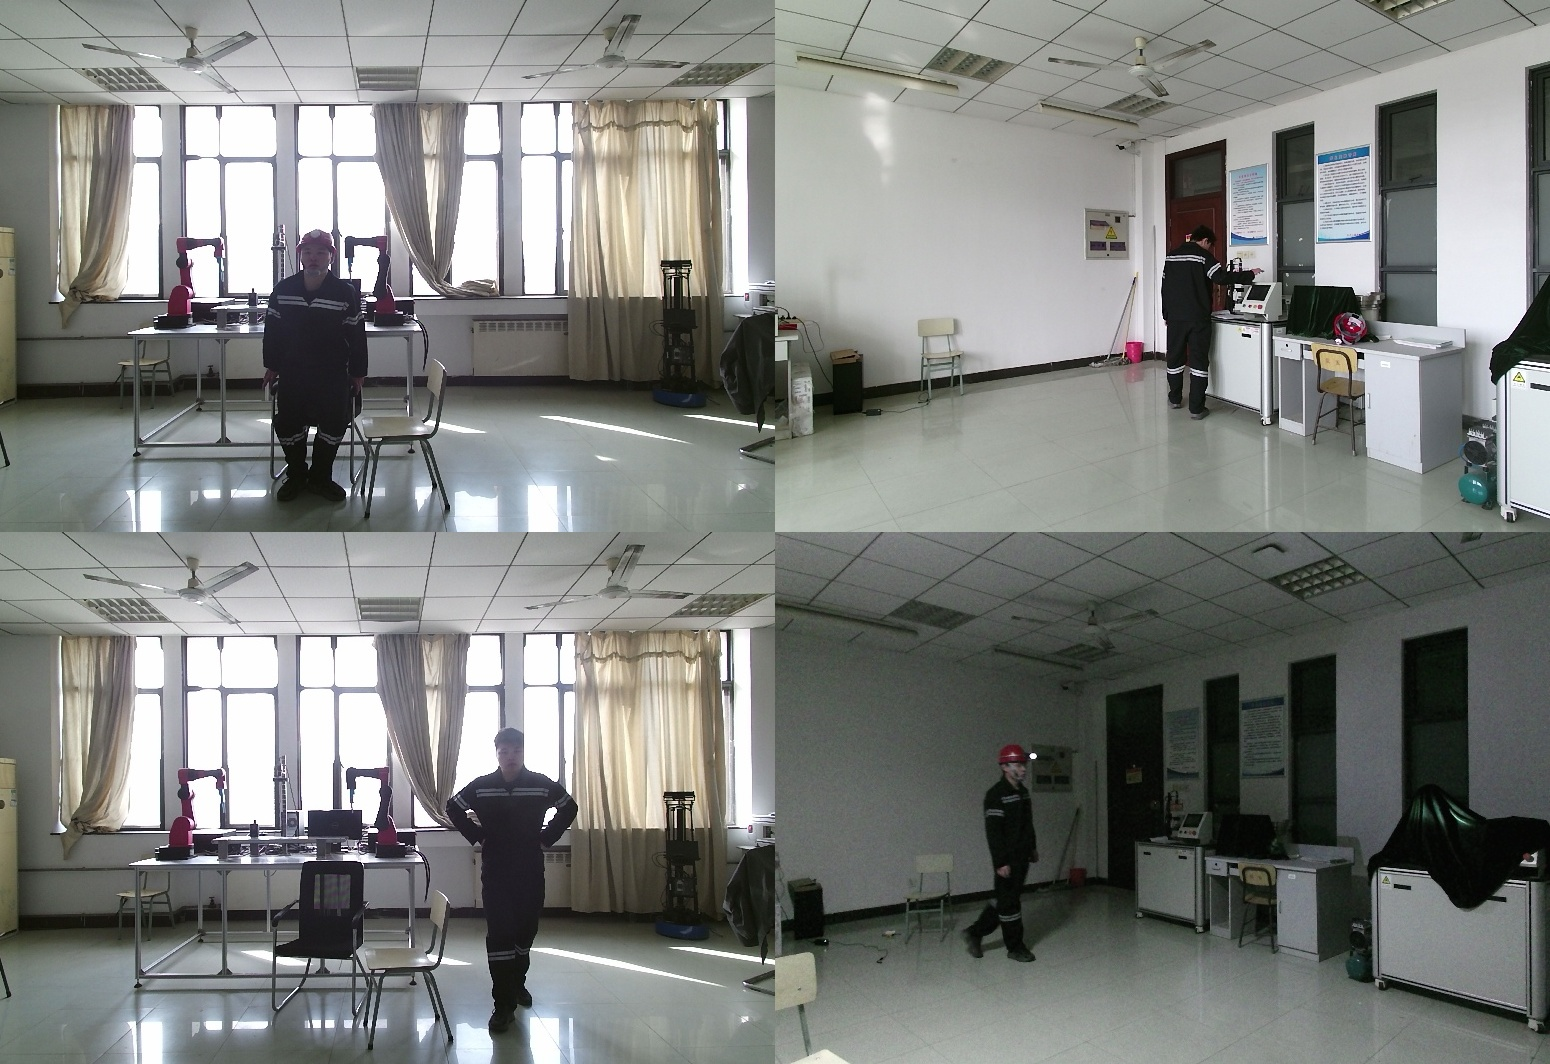person: (448, 729, 589, 1030), (262, 230, 376, 500), (1161, 231, 1275, 420), (957, 747, 1039, 975)
